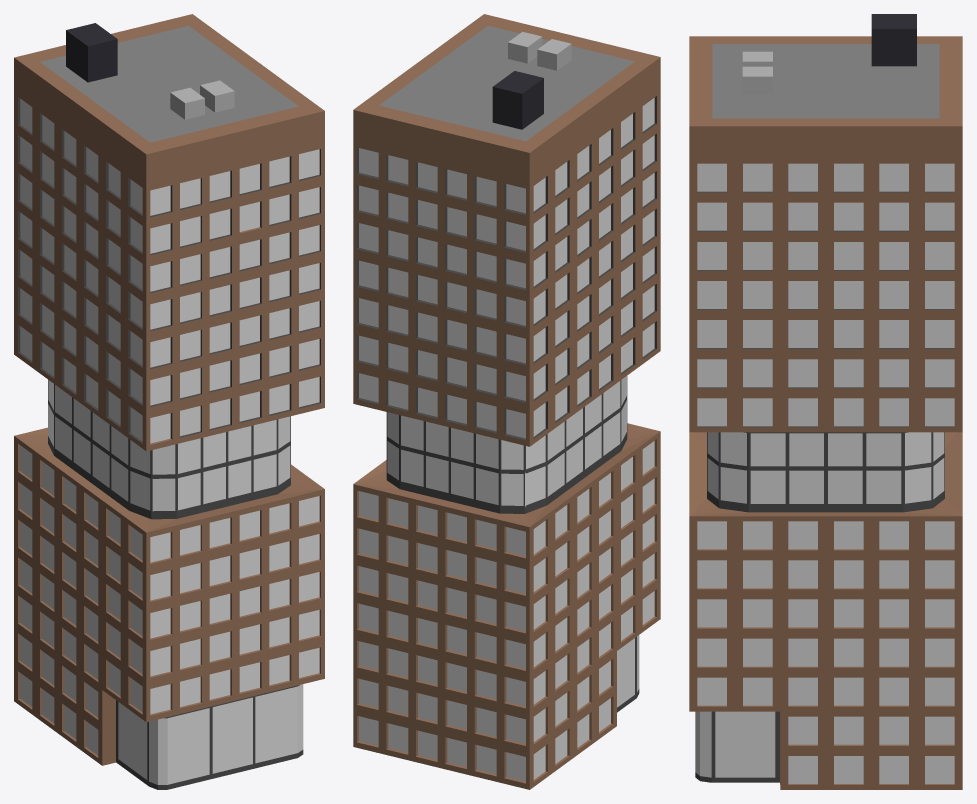
File: Kantoorgebouw.fbx
3 renders of one model, left to right at view 1: azimuth 30°, elevation 25°; view 2: azimuth 150°, elevation 25°; view 3: azimuth 270°, elevation 25°, orthographic. The views are drawn at different scales.
Parts seen in each view (by area): view 1: kantoor; view 2: kantoor; view 3: kantoor.
Part boxes in pixels (<box>): kantoor: <box>14,14,324,789</box>; kantoor: <box>353,14,660,789</box>; kantoor: <box>689,14,962,789</box>.
Size of the model in its own units: 300 by 1092 by 385.
